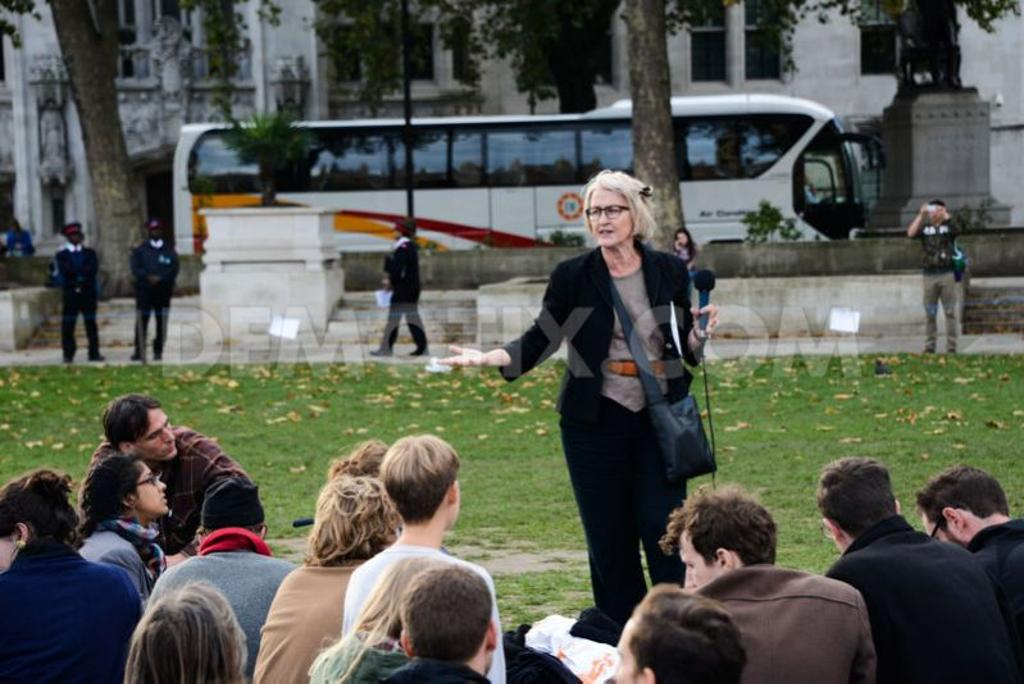face: (615, 617, 656, 684), (679, 531, 719, 595), (590, 189, 634, 247), (136, 408, 177, 460), (923, 508, 969, 550), (134, 461, 169, 514), (929, 206, 943, 220), (678, 233, 689, 246), (150, 229, 161, 239), (70, 234, 80, 243), (395, 231, 402, 240), (12, 225, 16, 231)
